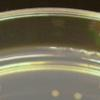yellow: (69, 91, 83, 100), (50, 88, 60, 97)
